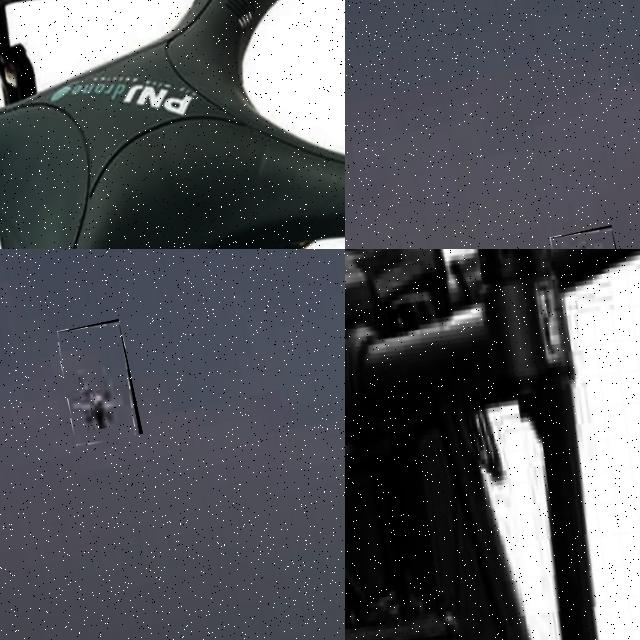0: (54, 318, 142, 446), (547, 224, 626, 249)
drone: (345, 249, 640, 640), (0, 0, 345, 249)
